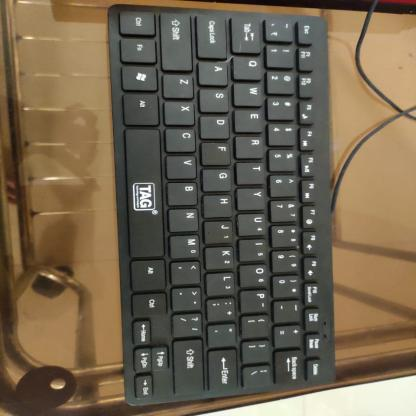keyboard: (119, 7, 333, 402)
